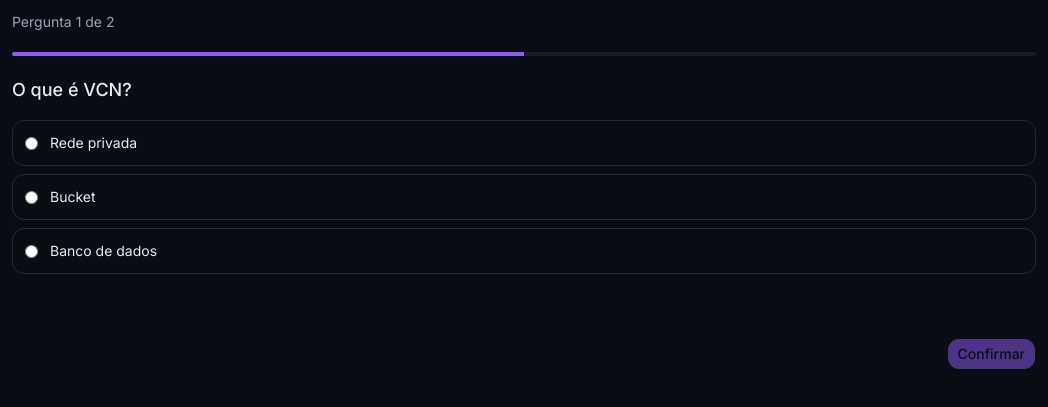
Test: InteractiveQuiz › dá feedback imediato e só então libera a próxima
Click the radio button labelled "Bucket" at {"x": 32, "y": 197}, box [25,190,38,204]
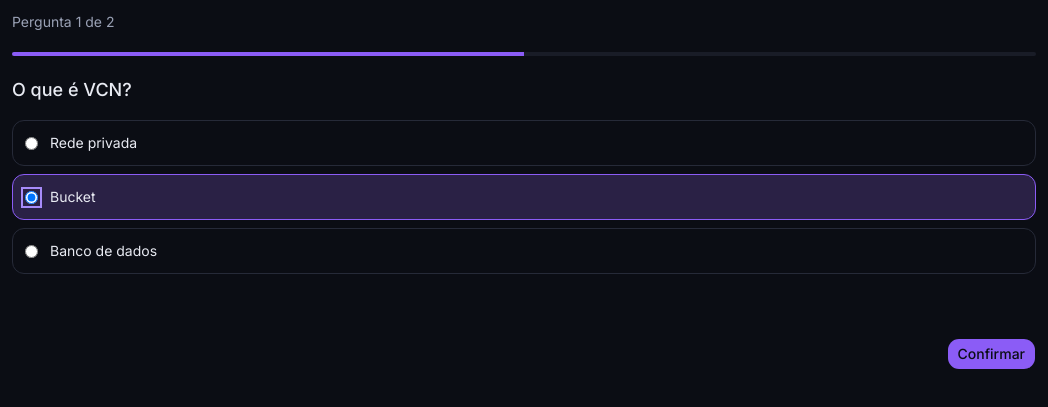
Click the button "Confirmar" at {"x": 991, "y": 354}, box [947,338,1036,370]
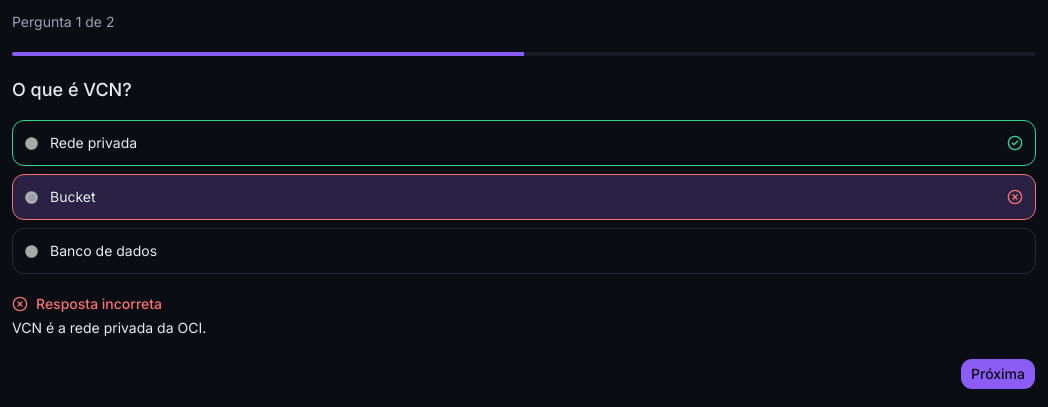
Check: the text "Resposta incorreta" is shown, box [12,295,162,312]
Check: the text "VCN é a rede privada da OCI." is shown, box [12,319,206,336]
Check: the button "Próxima" is shown, box [960,358,1036,390]
